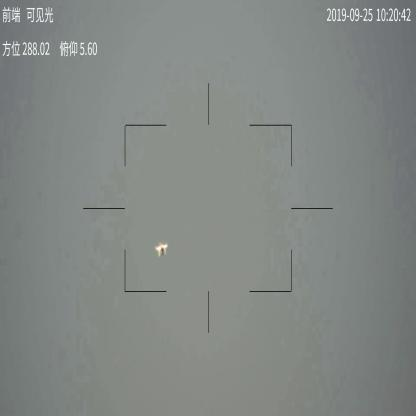uav: (154, 241, 168, 259)
